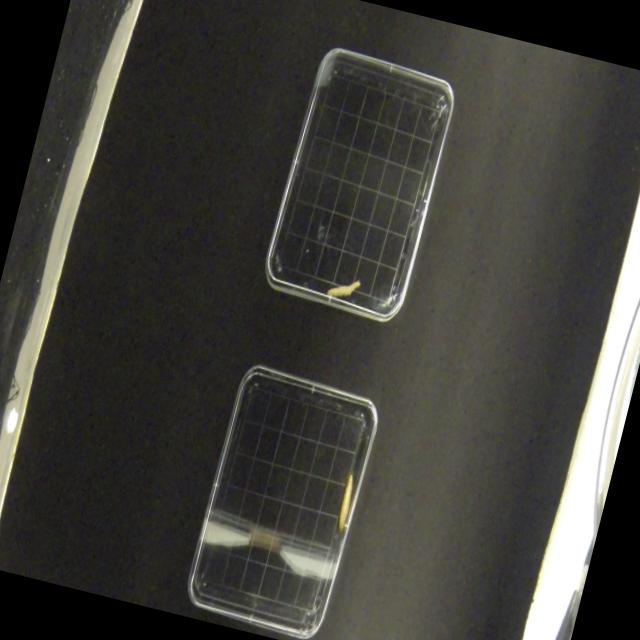larva: (326, 272, 362, 305)
